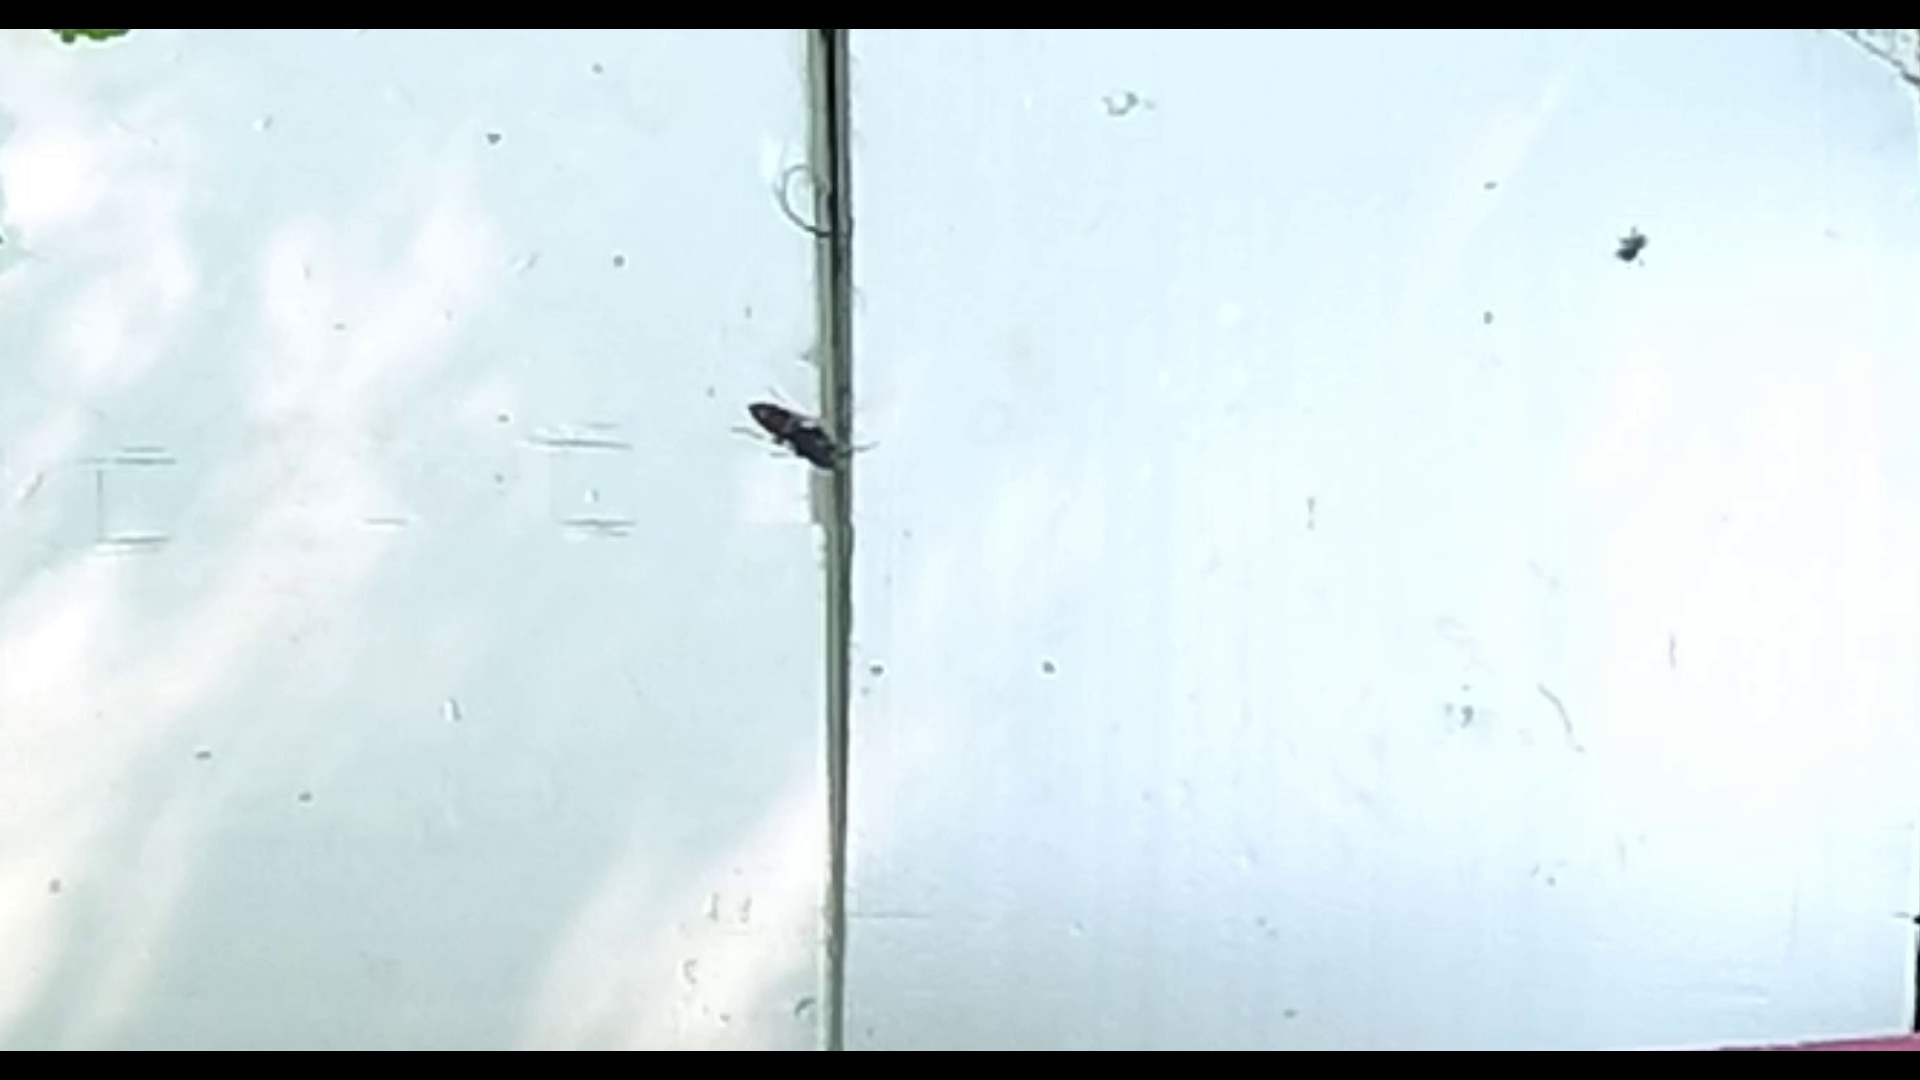Asian_hornets: (702, 365, 890, 509)
